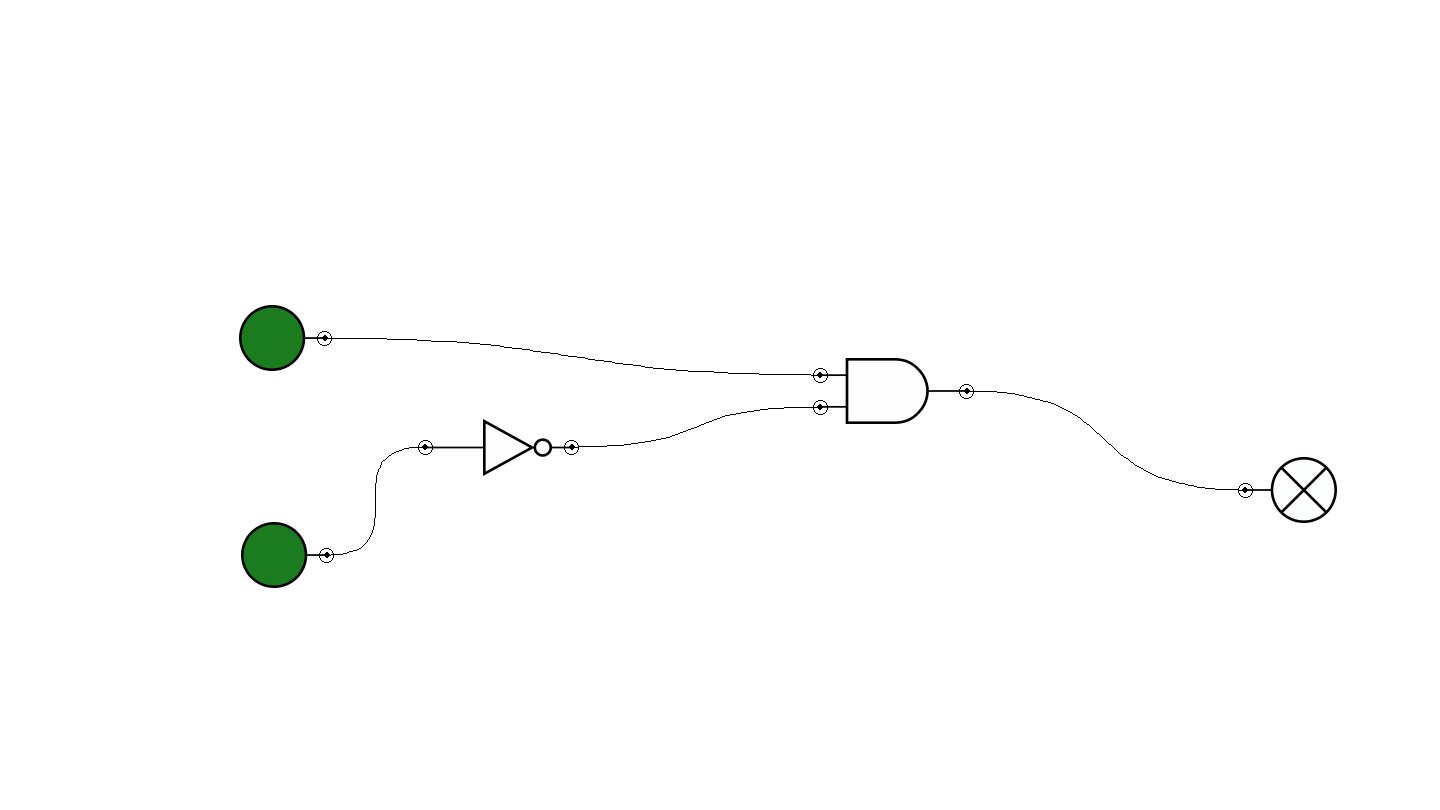and: (813, 358, 974, 424)
bulb: (1238, 457, 1337, 523)
not: (418, 419, 579, 476)
switch_True: (241, 522, 334, 588), (239, 305, 332, 371)
